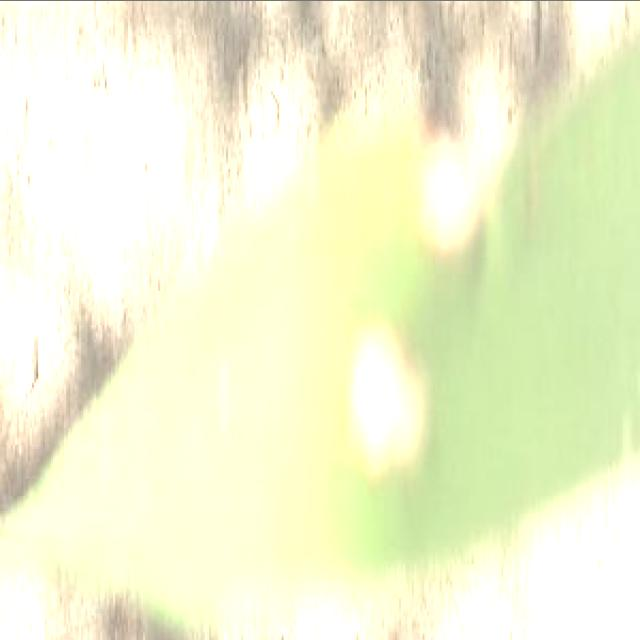Brown_Spot: (330, 302, 446, 496)
